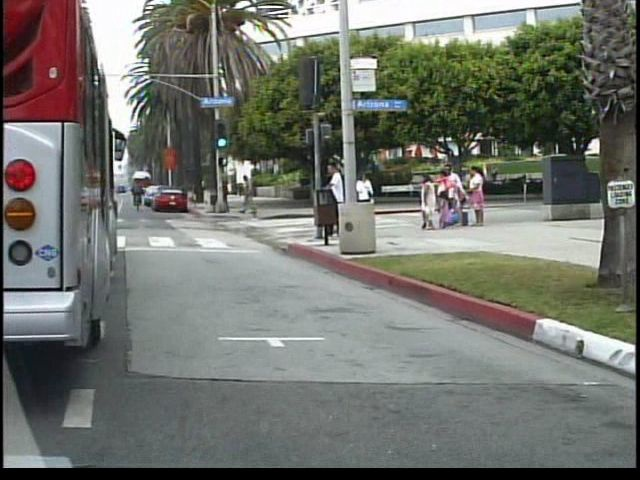person: (326, 159, 350, 240), (357, 167, 381, 230), (242, 170, 262, 215)
